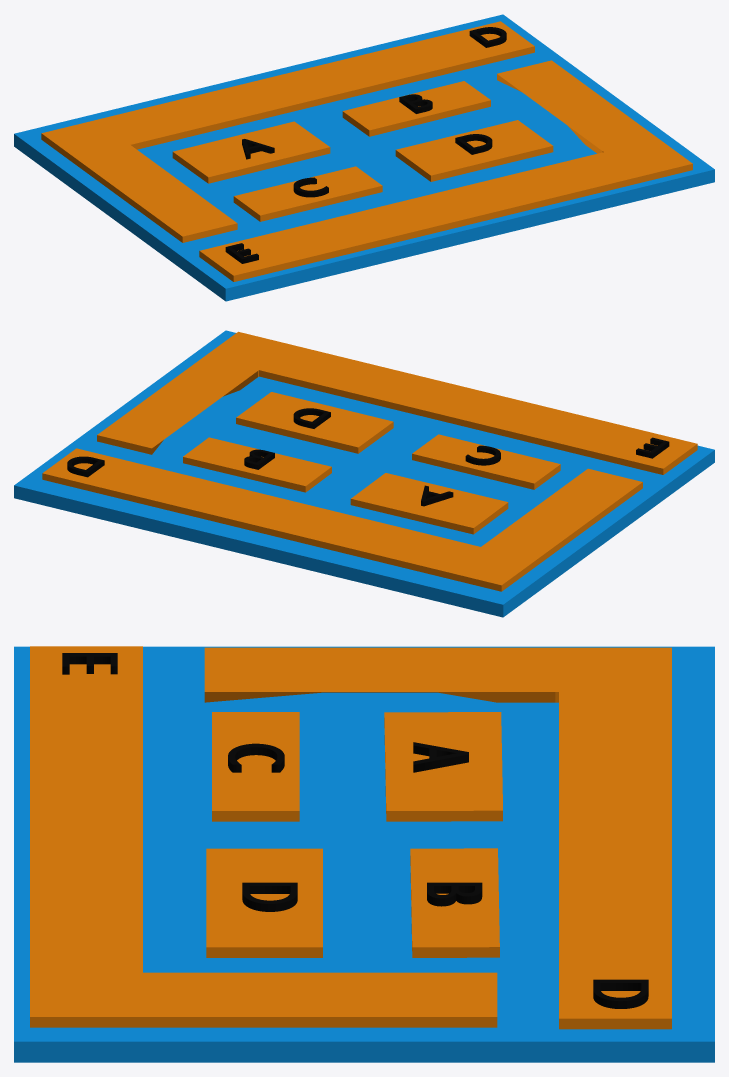
Rendered from pontes_de_konisgberg.glb.
The picture shows the model from 3 angles, top to bottom: view 1: azimuth 30°, elevation 25°; view 2: azimuth 150°, elevation 25°; view 3: azimuth 270°, elevation 25°; orthographic projection. The views are drawn at different scales.
Parts seen in each view (by area): view 1: Cube, Cube.003, Cube.001, Cube.006, Cube.004, Cube.005, Cube.007, Text.004, Text.002, Text; view 2: Cube, Cube.003, Cube.001, Cube.006, Cube.004, Cube.005, Cube.007, Text.004, Text.002; view 3: Cube, Cube.001, Cube.003, Cube.006, Cube.004, Cube.005, Cube.007, Text.004, Text.002, Text, Text.001, Text.003 (+1 smaller).
Part boxes in pixels (x1,y1,x2,y2): Cube: (14,14,714,301); Cube.003: (41,21,534,242); Cube.001: (199,60,692,281); Cube.006: (172,121,330,183); Cube.004: (395,120,553,181); Cube.005: (233,166,382,221); Cube.007: (342,81,490,136); Text.004: (469,27,506,47); Text.002: (455,134,492,154); Text: (399,94,432,113); Cube: (14,330,714,617); Cube.003: (42,448,642,591); Cube.001: (97,331,697,474); Cube.006: (350,473,508,534); Cube.004: (236,392,393,453); Cube.005: (412,434,560,489); Cube.007: (183,437,331,492); Text.004: (67,456,104,477); Text.002: (293,408,330,428); Cube: (14,646,714,1062); Cube.001: (30,646,497,1027); Cube.003: (204,647,671,1029); Cube.006: (384,712,502,821); Cube.004: (206,848,322,957); Cube.005: (212,712,299,821); Cube.007: (410,848,499,957); Text.004: (593,979,648,1008); Text.002: (242,882,297,911); Text: (427,882,482,906); Text.001: (413,742,468,772); Text.003: (228,743,284,772).
Bounding box in the file's own units: 32 × 1.5 × 24.
